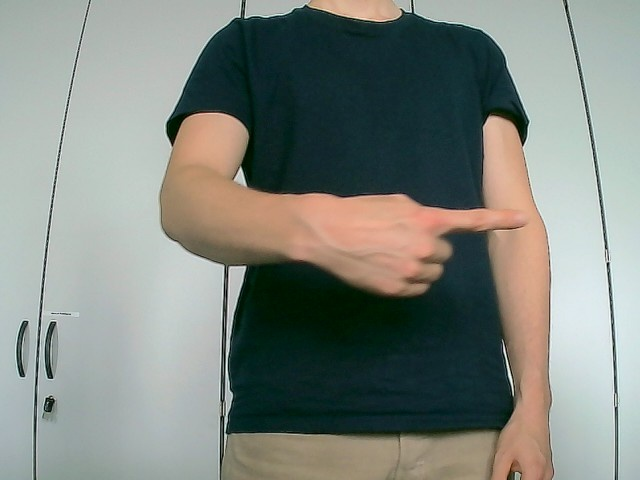left: (298, 191, 530, 299)
